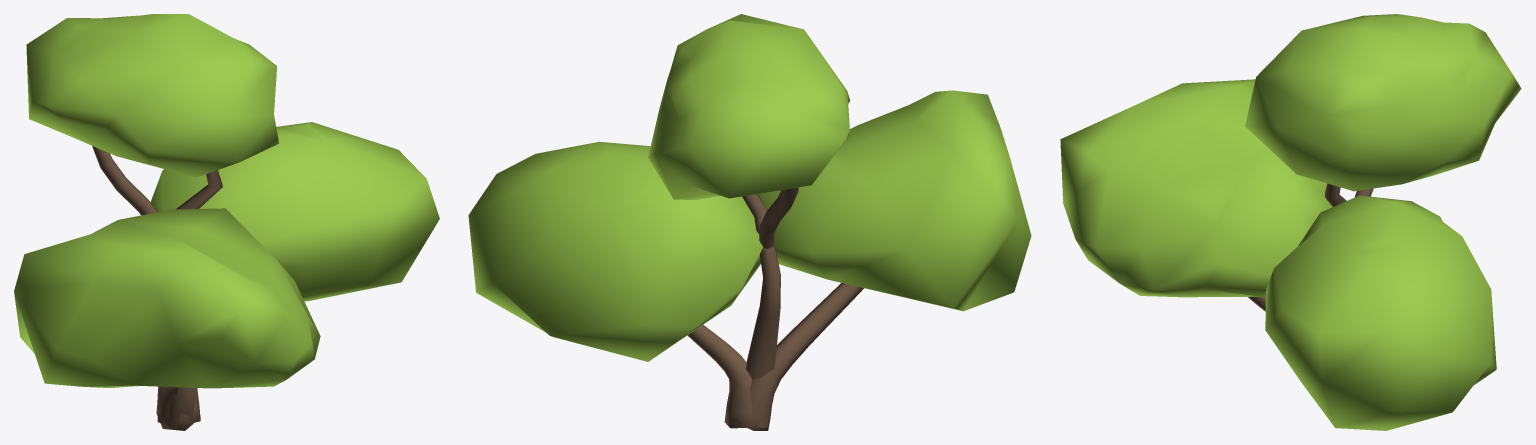
Rendered from bush_3.fbx.
3 renders of one model, left to right at view 1: azimuth 30°, elevation 25°; view 2: azimuth 150°, elevation 25°; view 3: azimuth 270°, elevation 25°, orthographic. The views are drawn at different scales.
Parts seen in each view (by area): view 1: Tube; view 2: Tube; view 3: Tube.
Part boxes in pixels (<box>): Tube: <box>14,14,439,430</box>; Tube: <box>468,14,1031,430</box>; Tube: <box>1060,14,1521,430</box>.
Size of the model in its own units: 65.44 by 54.68 by 57.44.
